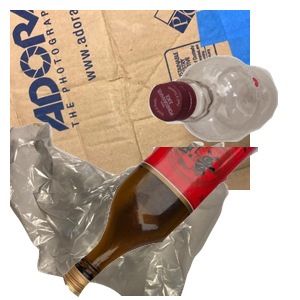cardboard: (10, 10, 250, 190)
glass: (60, 147, 300, 300)
plastic: (146, 53, 300, 187)
trash: (10, 120, 231, 300)
